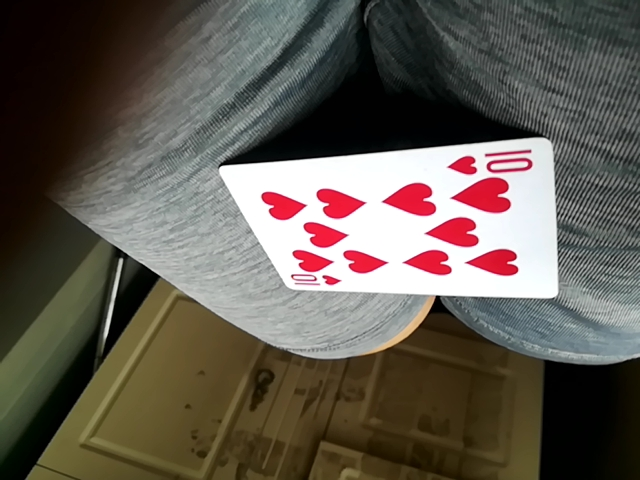hx 10: (217, 137, 561, 297)
